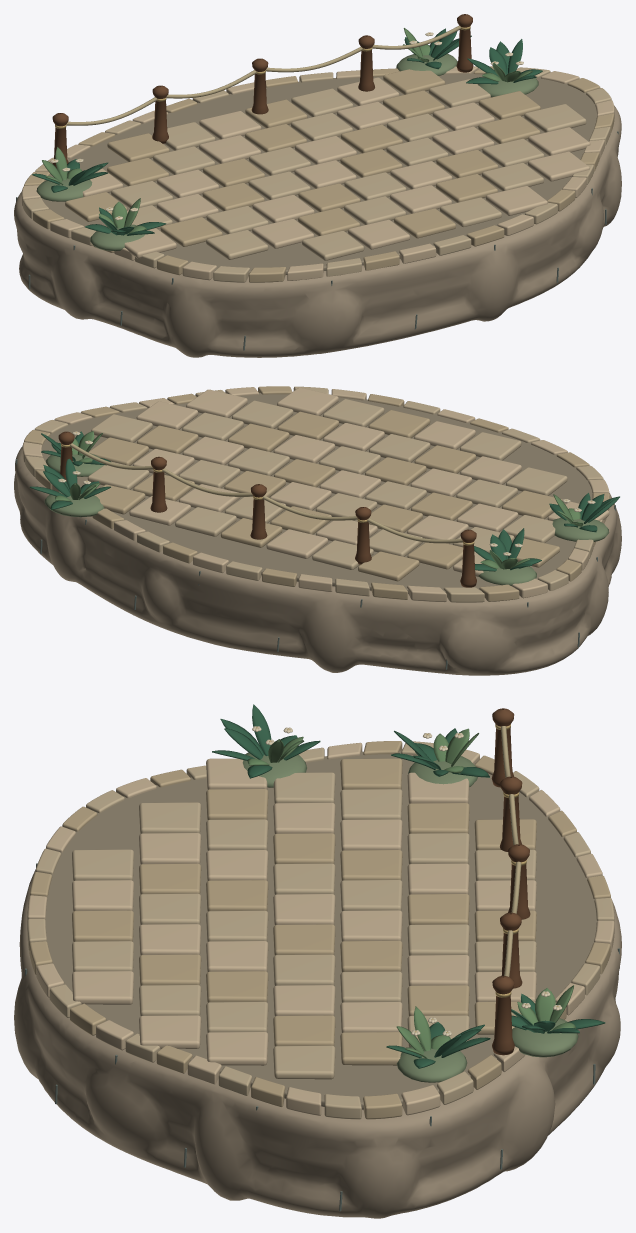
The model's file is harbor_invitation_terrace.glb.
3 renders of one model, top to bottom at view 1: azimuth 30°, elevation 25°; view 2: azimuth 150°, elevation 25°; view 3: azimuth 270°, elevation 25°, orthographic. The views are drawn at different scales.
Visible parts, largest first — view 1: harbor_invitation_terrace__TaggedPainted_Quay_Matte; view 2: harbor_invitation_terrace__TaggedPainted_Quay_Matte; view 3: harbor_invitation_terrace__TaggedPainted_Quay_Matte.
Boxes of the visible parts, x1,y1,x2,y2 form: harbor_invitation_terrace__TaggedPainted_Quay_Matte: (14, 14, 621, 357); harbor_invitation_terrace__TaggedPainted_Quay_Matte: (14, 386, 621, 675); harbor_invitation_terrace__TaggedPainted_Quay_Matte: (14, 704, 621, 1218).
Size of the model in its own units: 9.34 by 2.3 by 6.34.
